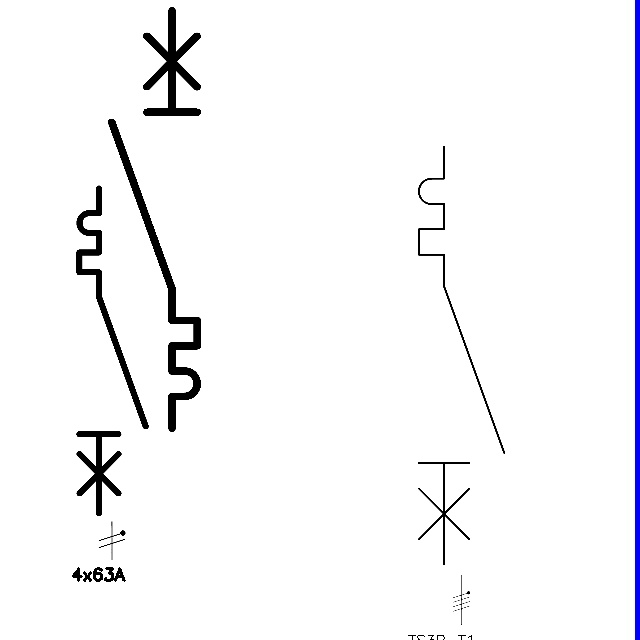interruptor_termomagnetico: (408, 136, 515, 576), (101, 0, 208, 439), (71, 180, 154, 522)
